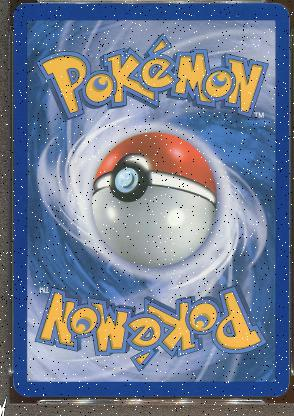Card: (12, 1, 288, 398)
Corner Wear: (272, 390, 286, 396), (13, 376, 17, 392)
